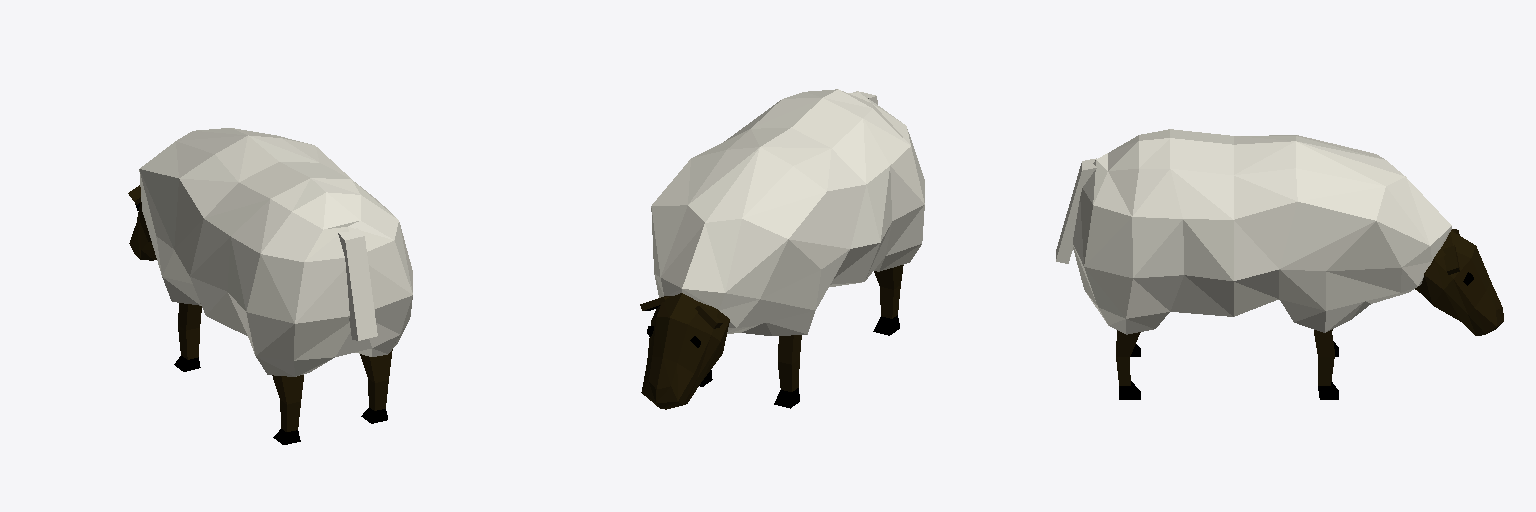
File: sheep2.obj
The picture shows the model from 3 angles: view 1: azimuth 30°, elevation 25°; view 2: azimuth 150°, elevation 25°; view 3: azimuth 270°, elevation 25°; orthographic projection.
Parts seen in each view (by area): view 1: sheep2_Mesh1_Model; view 2: sheep2_Mesh1_Model; view 3: sheep2_Mesh1_Model.
Part boxes in pixels (x1,y1,x2,y2): sheep2_Mesh1_Model: (128,128,412,444); sheep2_Mesh1_Model: (640,89,924,409); sheep2_Mesh1_Model: (1056,129,1503,399).
Bounding box in the file's own units: 0.722 × 0.9114 × 1.57.